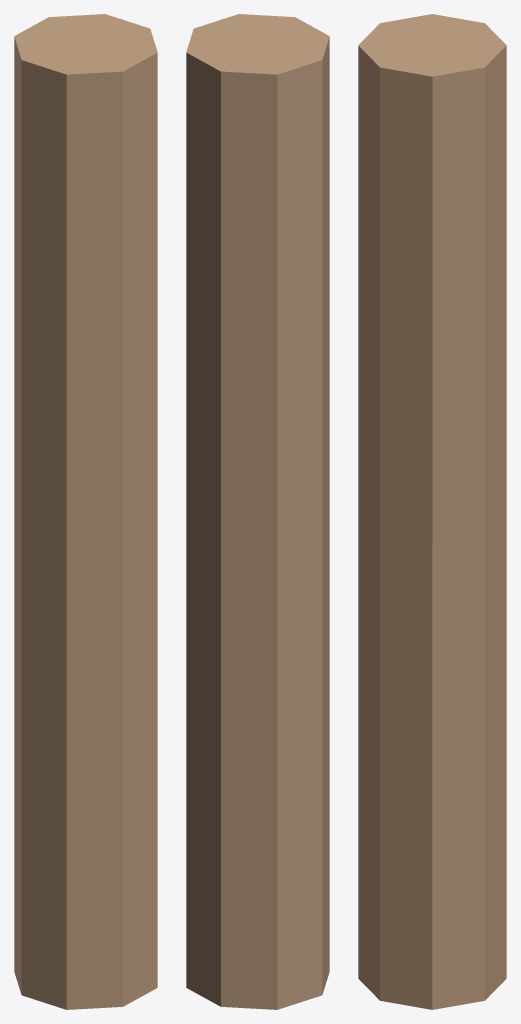
Rendered from LogFence.fbx.
The picture shows the model from 3 angles, left to right: view 1: azimuth 30°, elevation 25°; view 2: azimuth 150°, elevation 25°; view 3: azimuth 270°, elevation 25°; orthographic projection.
Parts seen in each view (by area): view 1: LogFenceOne; view 2: LogFenceOne; view 3: LogFenceOne.
Part boxes in pixels (<box>): LogFenceOne: <box>14,14,157,1009</box>; LogFenceOne: <box>186,14,329,1009</box>; LogFenceOne: <box>358,14,506,1009</box>.
Bounding box in the file's own units: 0.0147 × 0.1019 × 0.0147.
